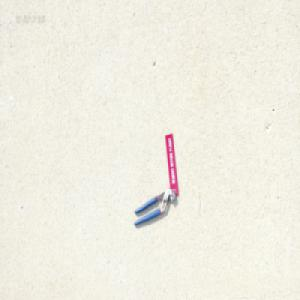Label: (165, 132, 178, 194)
Pliers: (133, 188, 176, 226)
